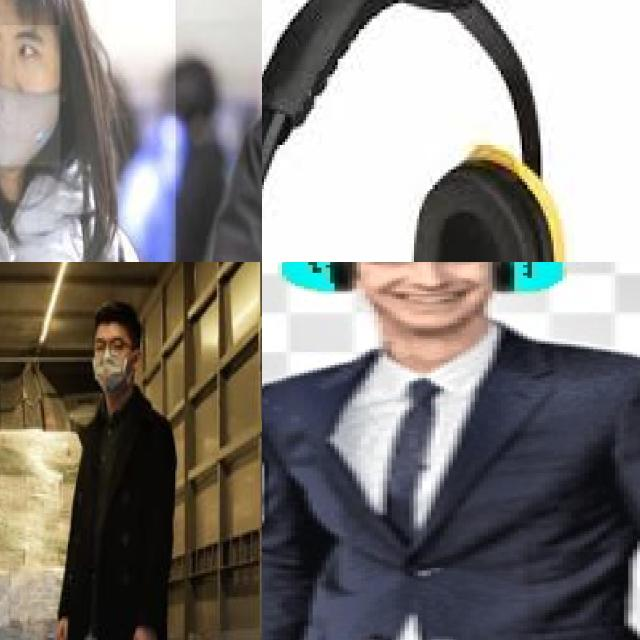Ear-protection: (396, 140, 571, 262)
No_Ear-Protection: (280, 262, 351, 291), (495, 262, 561, 291)
No_Glasses: (359, 262, 483, 279)
face_mask: (0, 25, 62, 169), (92, 333, 135, 396)
face_nomask: (363, 262, 489, 335)
glasses: (92, 333, 124, 362)
hand_noglove: (50, 609, 71, 640), (128, 621, 159, 640)
head_nohelmet: (89, 302, 137, 341)
person: (47, 292, 191, 640), (0, 0, 177, 262)
